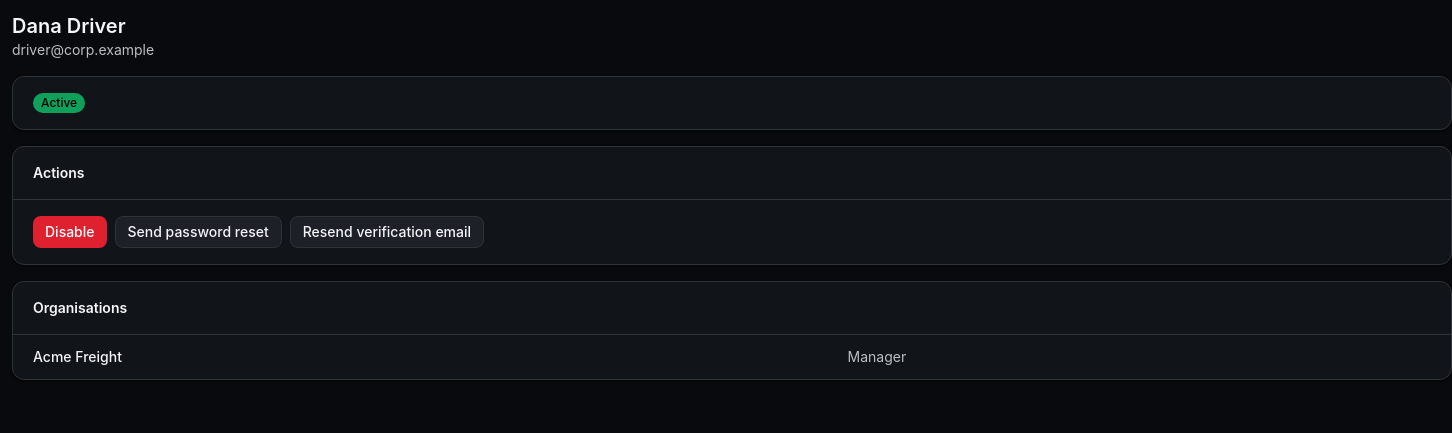
Test case: CustomerUserDetailPage — staff actions › reports when a password reset had no email to send to
The image size is (1452, 433).
Click the button "Send password reset" at (198, 232), box 114,216 -> 282,248
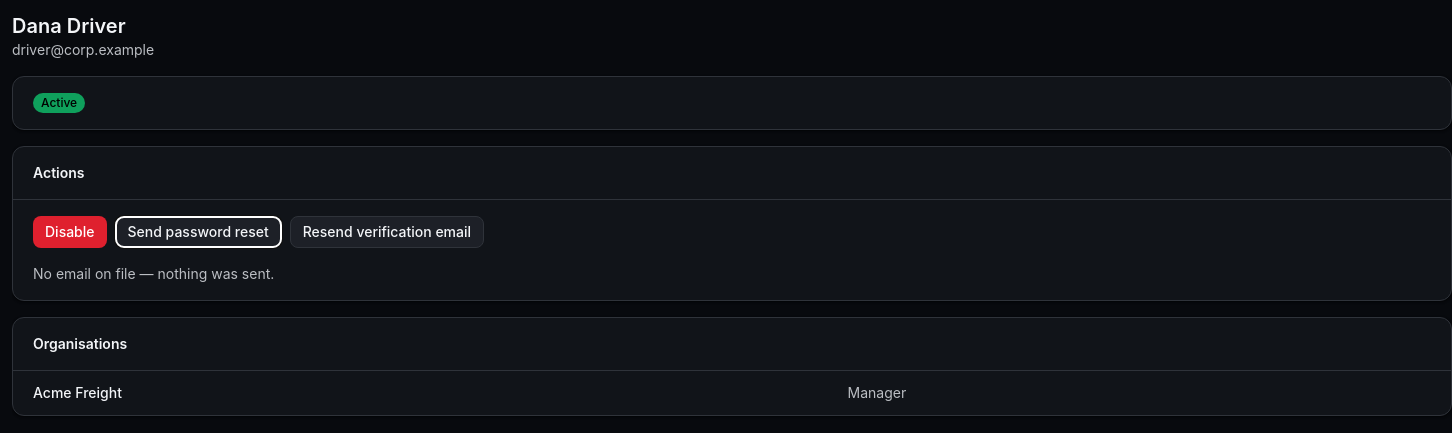
Expected: the text "No email on file — nothing was sent." is shown, 33,265 -> 274,282
